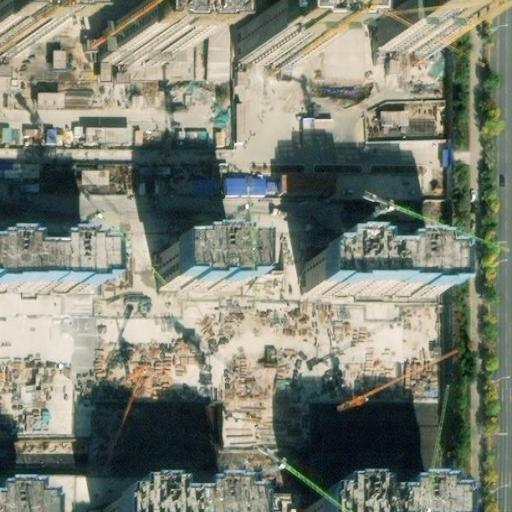building: (310, 241, 444, 294), (0, 242, 94, 294), (161, 236, 243, 289), (108, 13, 188, 67), (249, 11, 325, 64), (111, 487, 247, 512), (316, 487, 451, 512), (384, 2, 453, 50), (282, 171, 335, 197), (220, 173, 268, 196), (376, 107, 408, 127)
